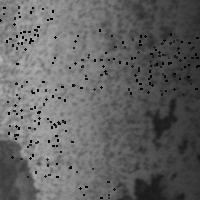pitted_surface: (20, 1, 185, 200), (7, 81, 65, 141), (69, 29, 126, 88), (128, 33, 184, 93), (11, 121, 71, 176), (0, 6, 54, 63), (122, 35, 173, 90), (1, 137, 37, 198), (161, 37, 200, 93), (75, 168, 129, 200), (131, 172, 169, 200)
